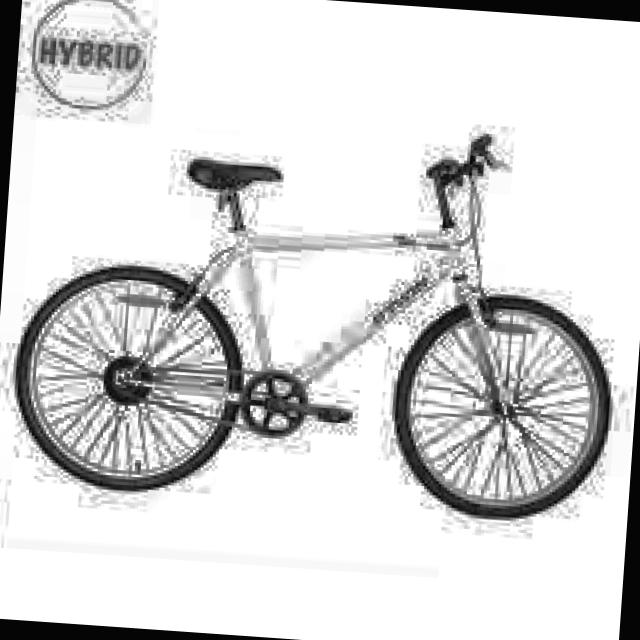bicycle: (7, 101, 630, 527)
